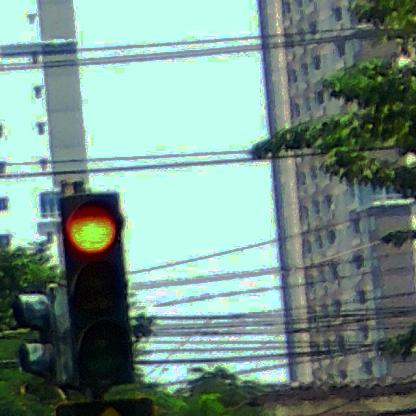Traffic Light -Red-: (60, 194, 136, 386)
